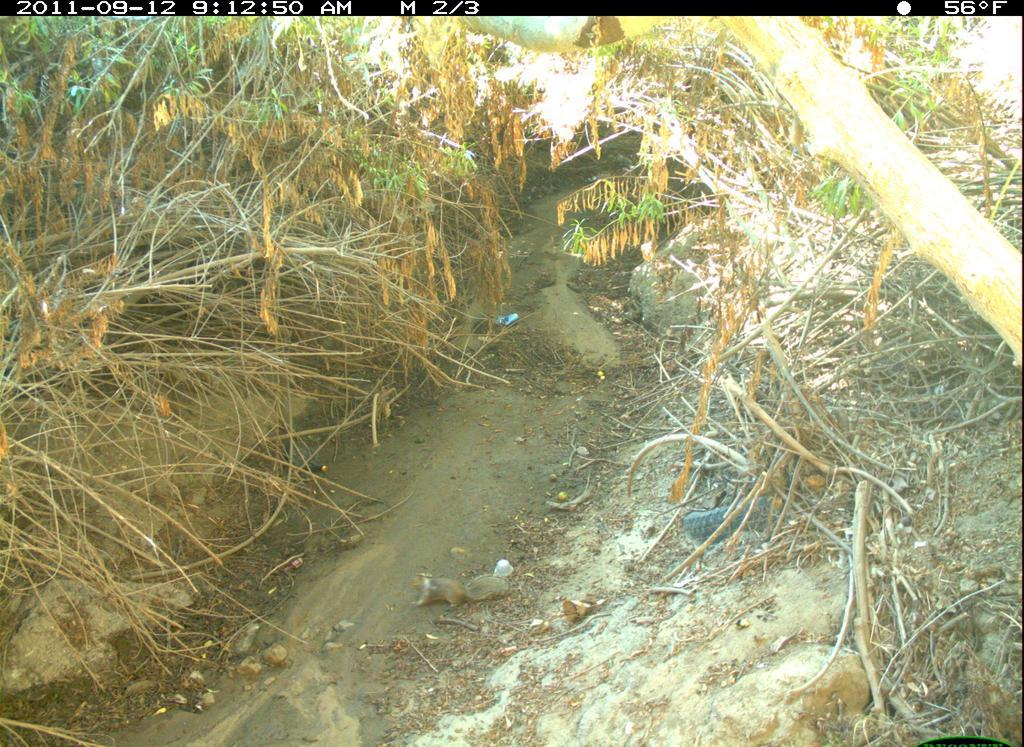squirrel: (401, 556, 555, 638)
